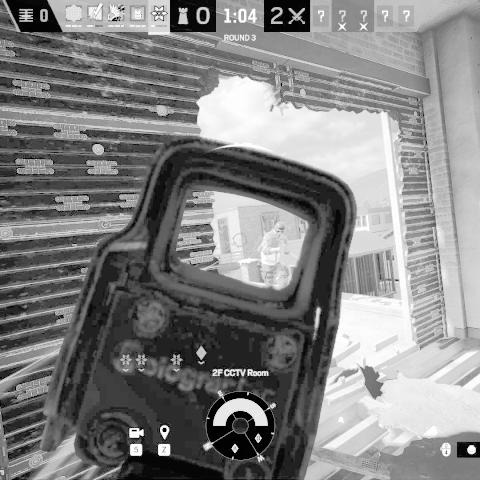Character: (257, 221, 291, 289)
Head: (274, 222, 286, 238)
